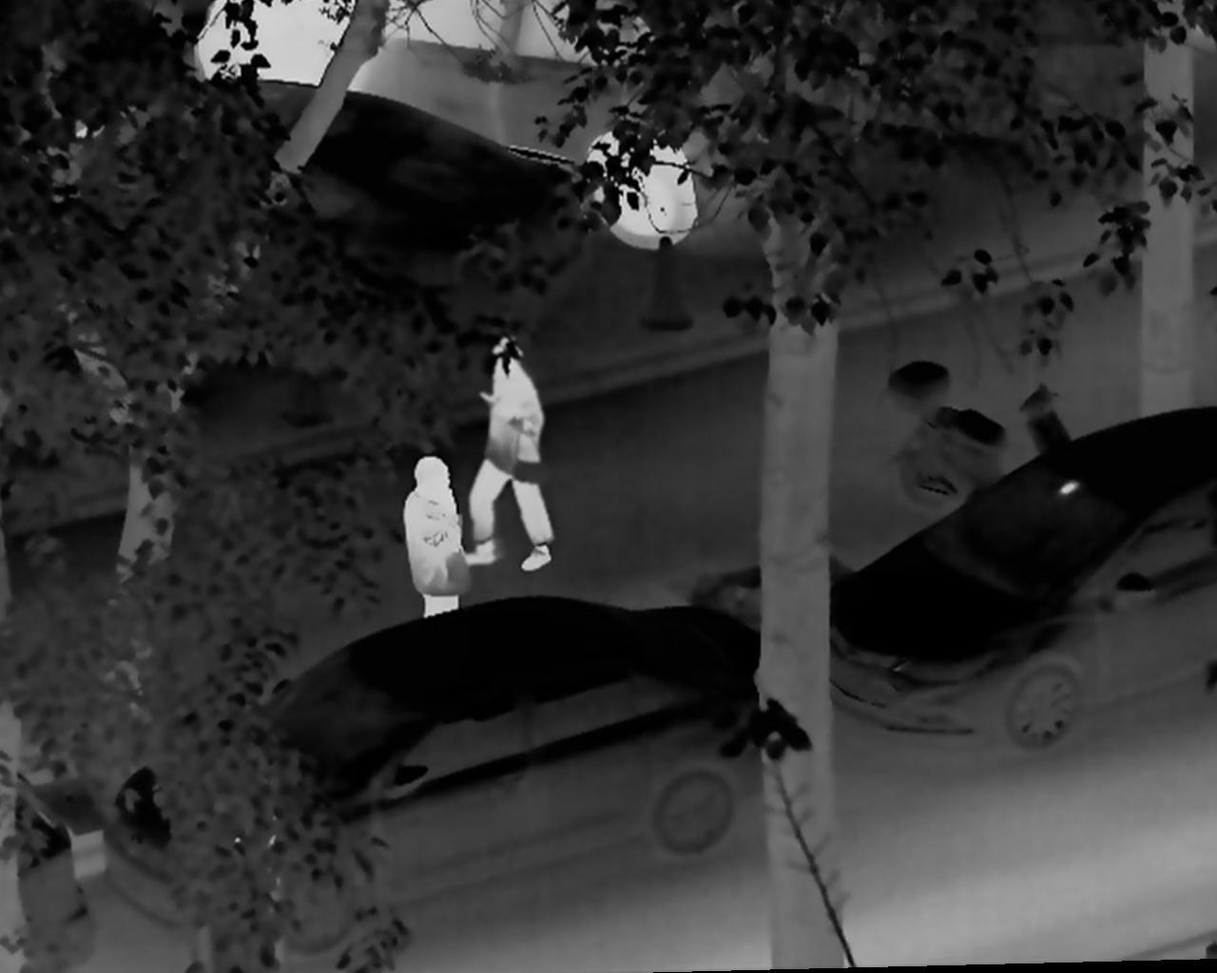person: (458, 330, 557, 576), (389, 451, 476, 620)
